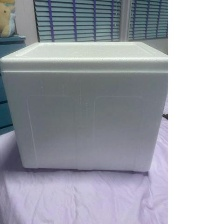foam_box: (0, 36, 168, 177)
